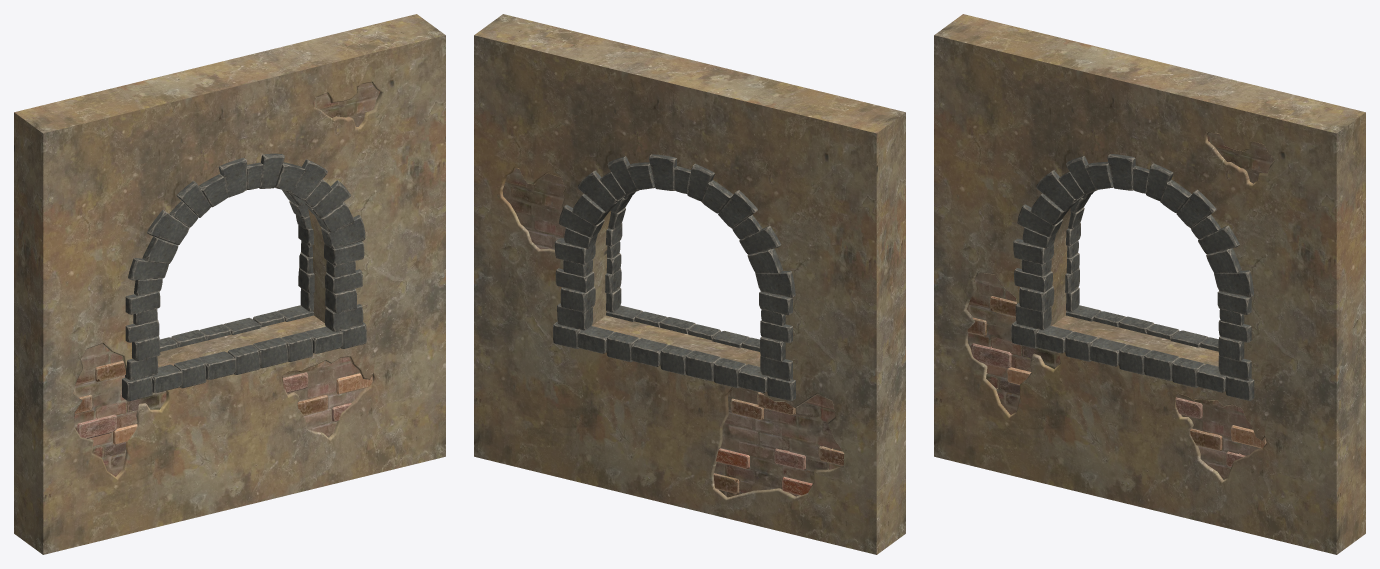
3 renders of one model, left to right at view 1: azimuth 30°, elevation 25°; view 2: azimuth 150°, elevation 25°; view 3: azimuth 330°, elevation 25°, orthographic.
Parts seen in each view (by area): view 1: SM_Human_Ruins_Window_03_LOD0; view 2: SM_Human_Ruins_Window_03_LOD0; view 3: SM_Human_Ruins_Window_03_LOD0.
Boxes of the visible parts, x1=… form: SM_Human_Ruins_Window_03_LOD0: x1=14, y1=14, x2=445, y2=554; SM_Human_Ruins_Window_03_LOD0: x1=474, y1=14, x2=905, y2=554; SM_Human_Ruins_Window_03_LOD0: x1=934, y1=14, x2=1365, y2=554.
Bounding box in the file's own units: 4 × 4 × 0.6674.
Materials: 4 (4 with a texture image).
